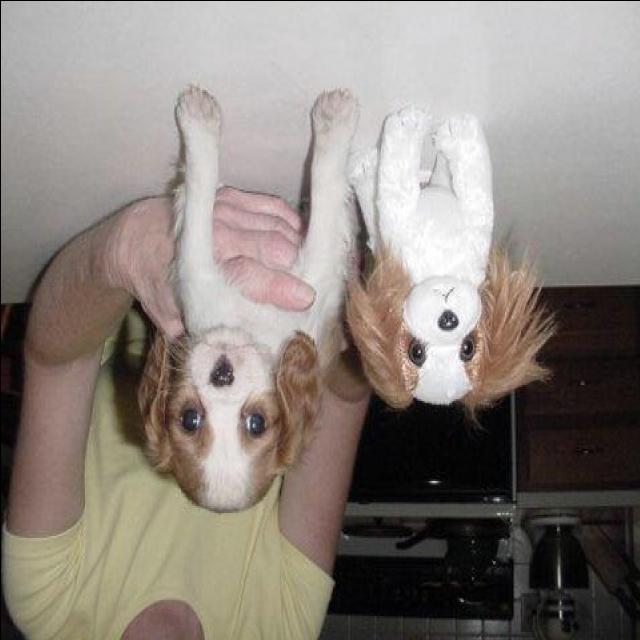blenheim_spaniel: (133, 83, 364, 521), (344, 106, 554, 416)
